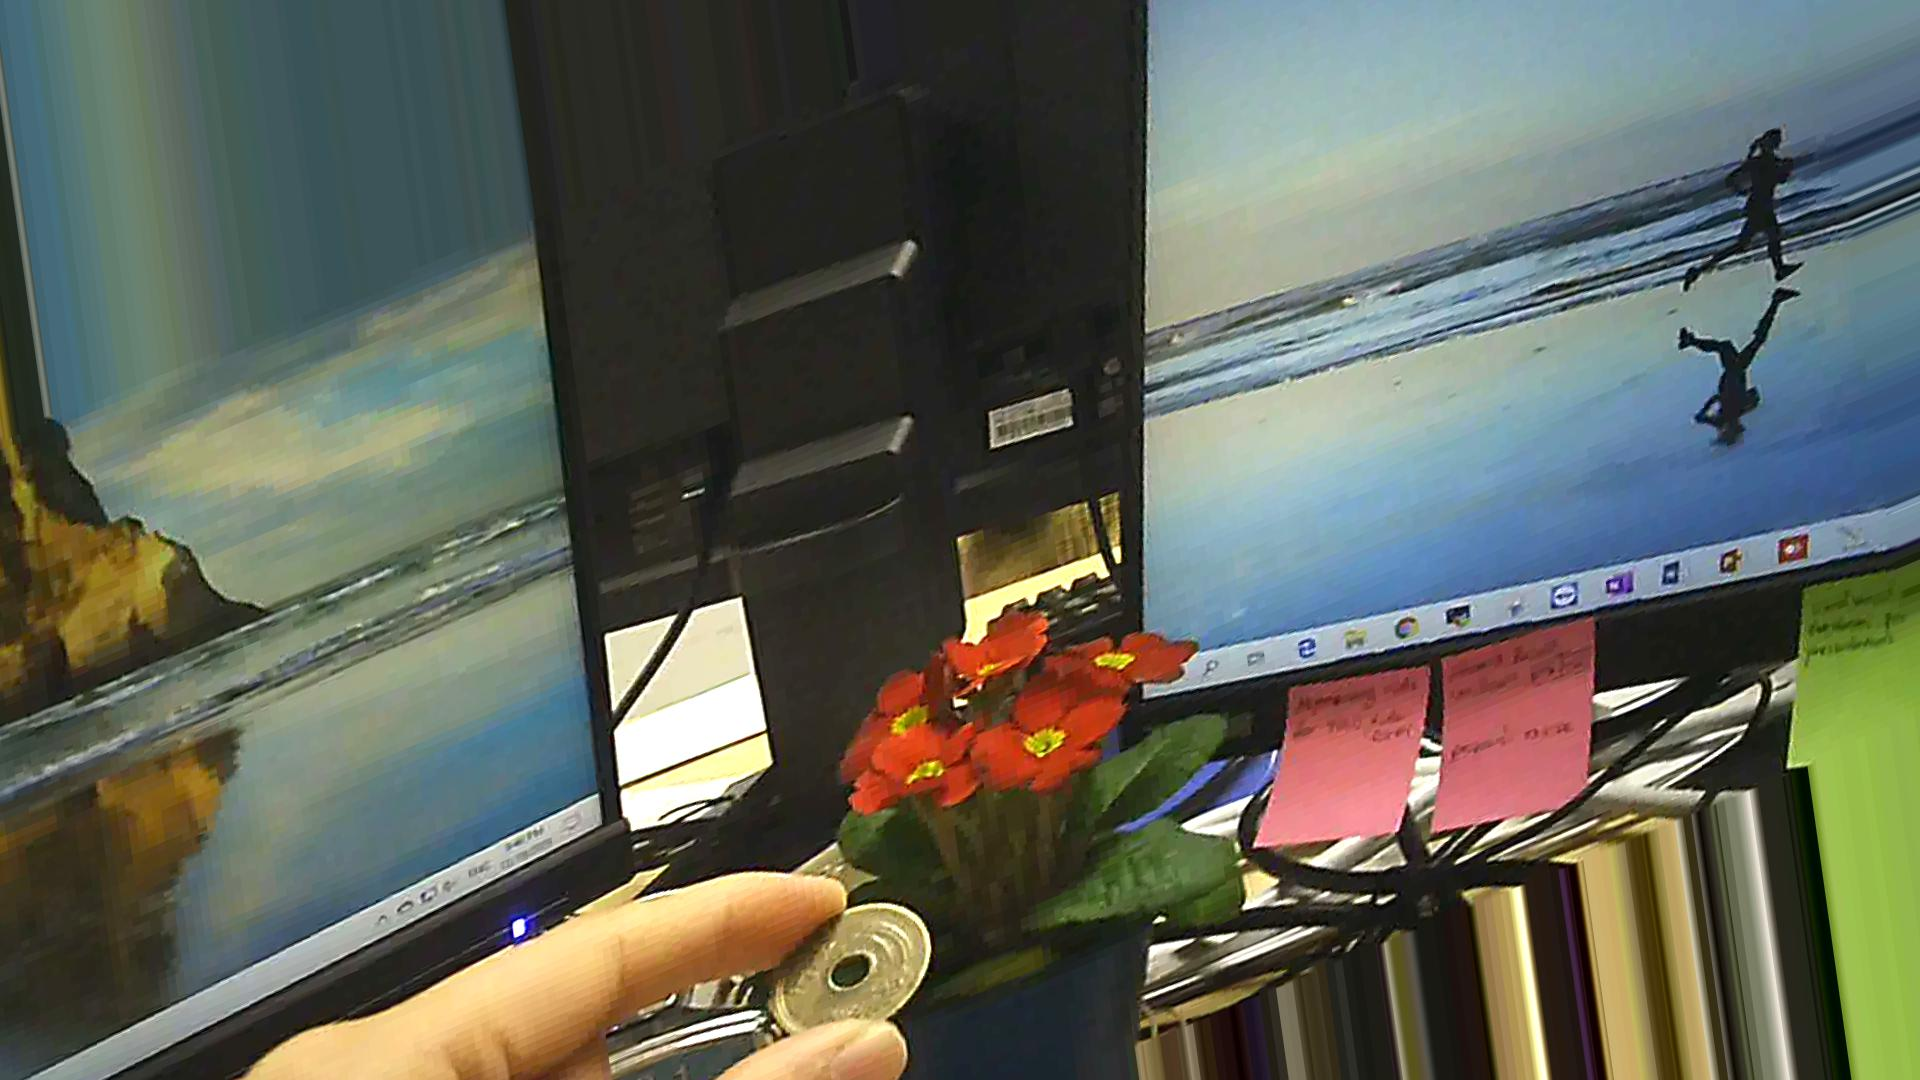5 Yen: (773, 893, 952, 1038)
